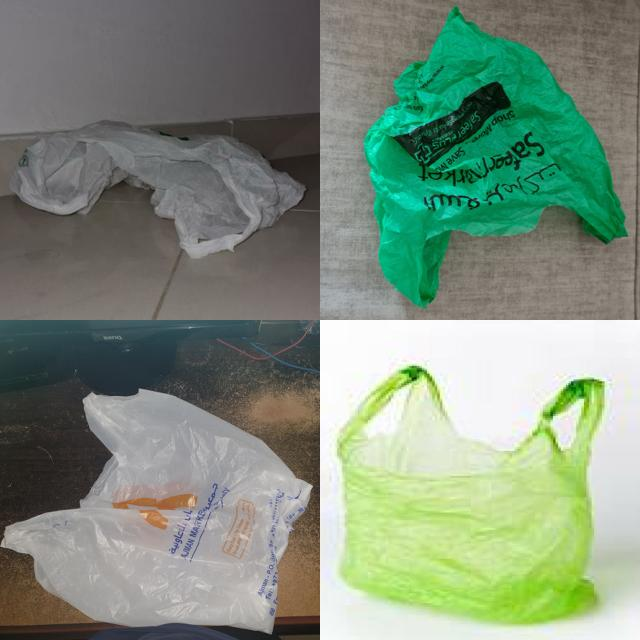HDPE Plastic: (195, 156, 199, 160)
Single-layer Plastic: (365, 8, 626, 306), (2, 390, 311, 632), (338, 365, 605, 624), (10, 121, 305, 258)
